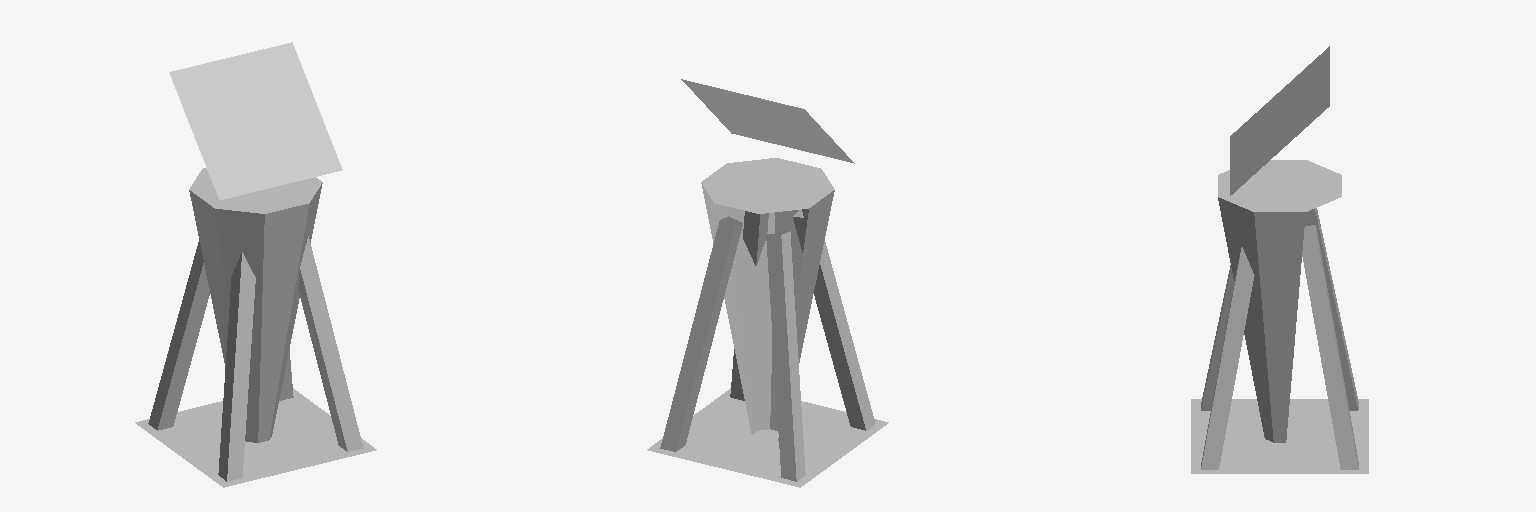
Rendered from Safari Zone Gate Torch.obj.
The picture shows the model from 3 angles: view 1: azimuth 30°, elevation 25°; view 2: azimuth 150°, elevation 25°; view 3: azimuth 270°, elevation 25°; orthographic projection.
Parts seen in each view (by area): view 1: polygon3, polygon1, polygon0, polygon2; view 2: polygon3, polygon0, polygon2, polygon1; view 3: polygon3, polygon0, polygon1, polygon2.
Boxes of the visible parts, x1=… form: polygon3: x1=148, y1=183, x2=363, y2=481; polygon1: x1=169, y1=42, x2=342, y2=200; polygon0: x1=135, y1=388, x2=376, y2=487; polygon2: x1=189, y1=168, x2=322, y2=213; polygon3: x1=660, y1=183, x2=875, y2=481; polygon0: x1=647, y1=388, x2=888, y2=487; polygon2: x1=701, y1=158, x2=834, y2=213; polygon1: x1=681, y1=79, x2=854, y2=163; polygon3: x1=1201, y1=197, x2=1358, y2=469; polygon0: x1=1191, y1=399, x2=1368, y2=473; polygon1: x1=1230, y1=46, x2=1329, y2=195; polygon2: x1=1218, y1=160, x2=1341, y2=211.
Bounding box in the file's own units: 20 × 44.67 × 20.